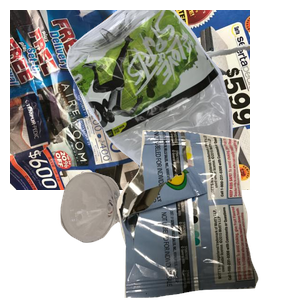glass: (58, 170, 202, 300)
paper: (10, 10, 250, 190)
plastic: (64, 10, 300, 190)
trash: (114, 130, 300, 300)
